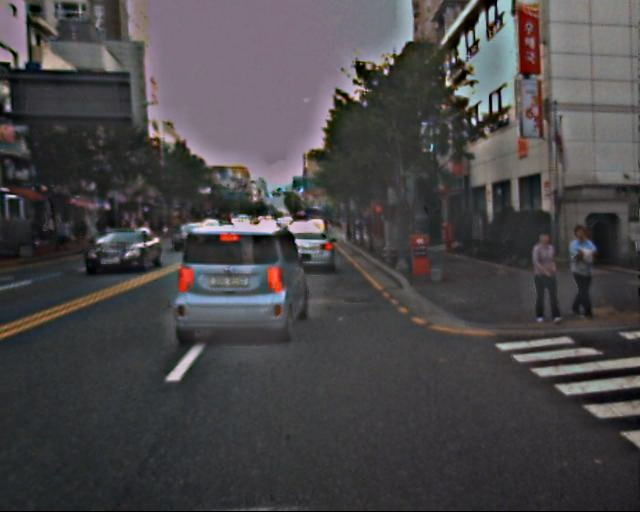person: (527, 231, 566, 325), (560, 227, 597, 317)
